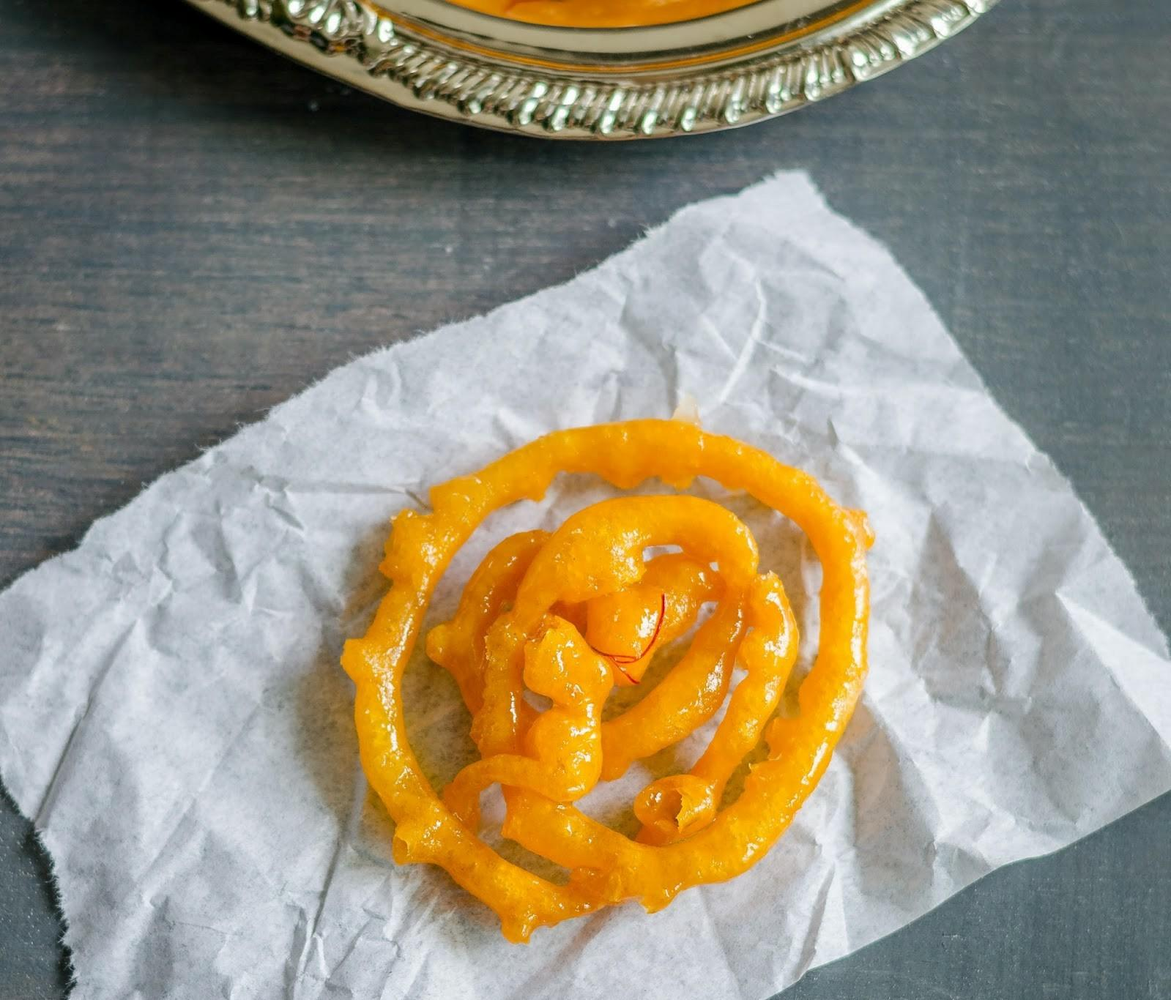Jalebi: (338, 412, 877, 945)
